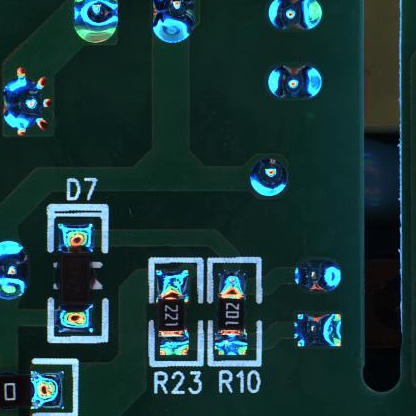spot: (2, 66, 55, 141), (262, 61, 330, 105), (291, 310, 345, 350), (267, 1, 328, 34), (1, 241, 32, 304), (292, 258, 343, 295), (248, 156, 289, 201)
